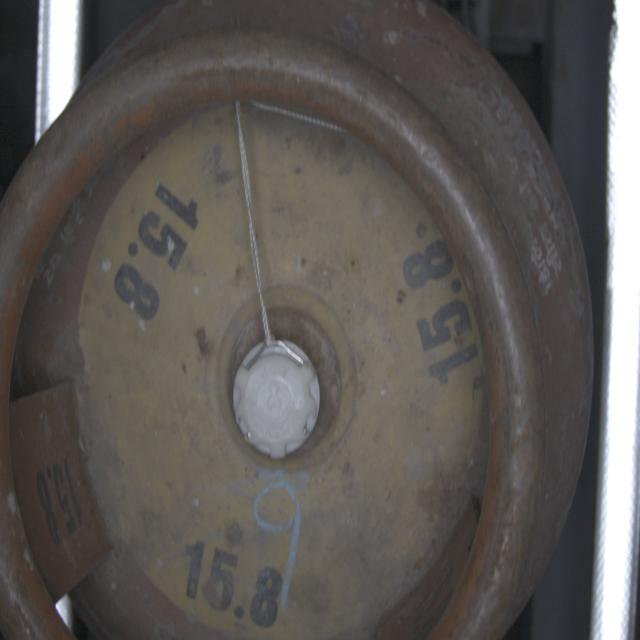Cap: (231, 335, 323, 458)
